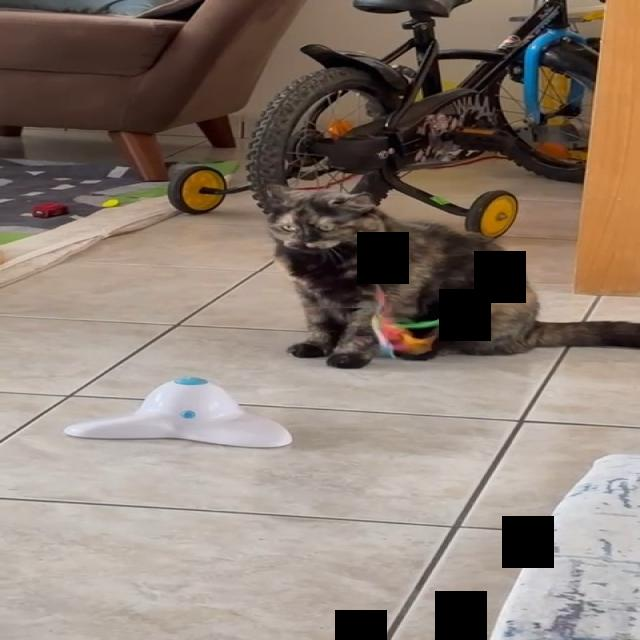authorized: (260, 183, 639, 369)
